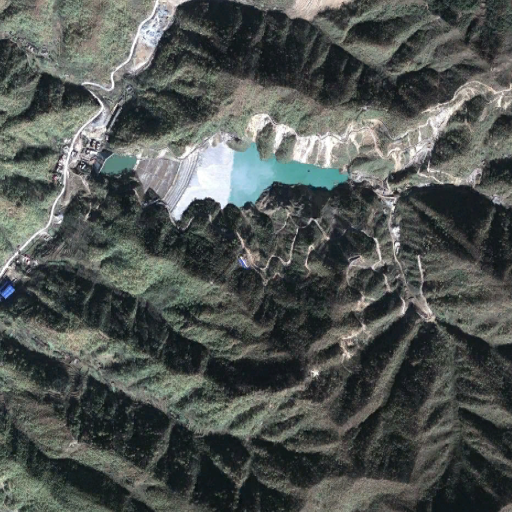tp: (135, 139, 351, 224)
